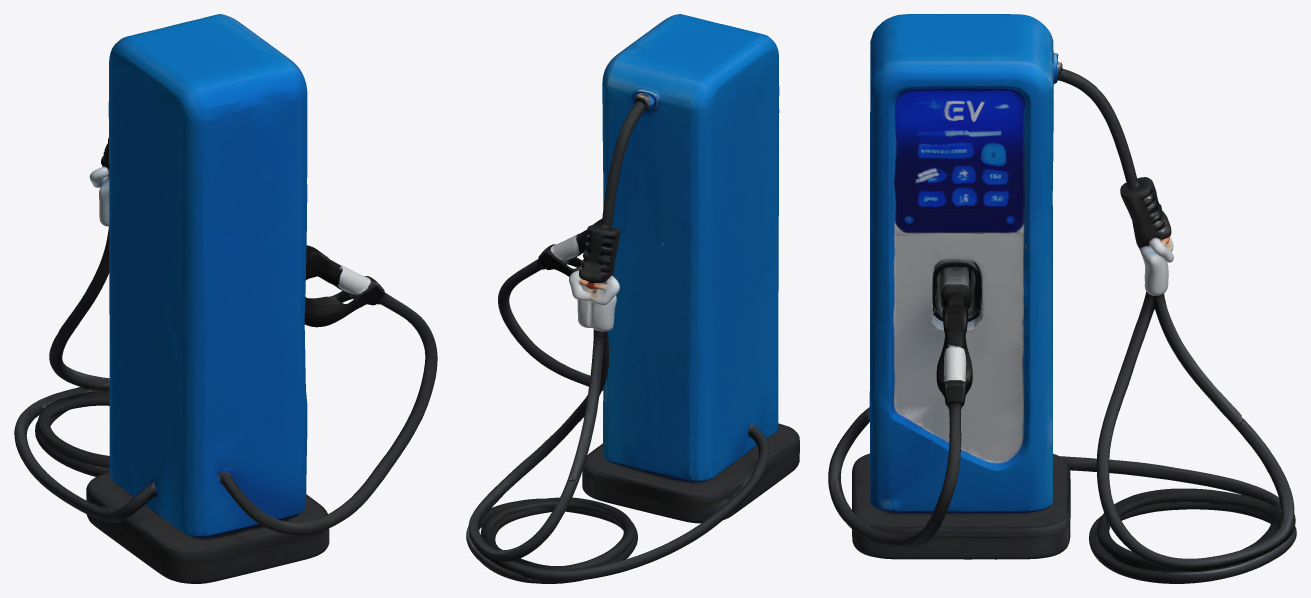
Rendered from plaza-outlet.glb.
3 renders of one model, left to right at view 1: azimuth 30°, elevation 25°; view 2: azimuth 150°, elevation 25°; view 3: azimuth 270°, elevation 25°, orthographic. The views are drawn at different scales.
Visible parts, largest first — view 1: tripo_node_868b1cd0-74bd-41a1-a368-08e087f3af8c; view 2: tripo_node_868b1cd0-74bd-41a1-a368-08e087f3af8c; view 3: tripo_node_868b1cd0-74bd-41a1-a368-08e087f3af8c.
Boxes of the visible parts, bbox=[...] form: tripo_node_868b1cd0-74bd-41a1-a368-08e087f3af8c: bbox=[14, 14, 437, 583]; tripo_node_868b1cd0-74bd-41a1-a368-08e087f3af8c: bbox=[466, 14, 799, 583]; tripo_node_868b1cd0-74bd-41a1-a368-08e087f3af8c: bbox=[828, 14, 1296, 583].
Size of the model in its own units: 1.2 by 1.8 by 1.57.
1 material, 1 textured.
